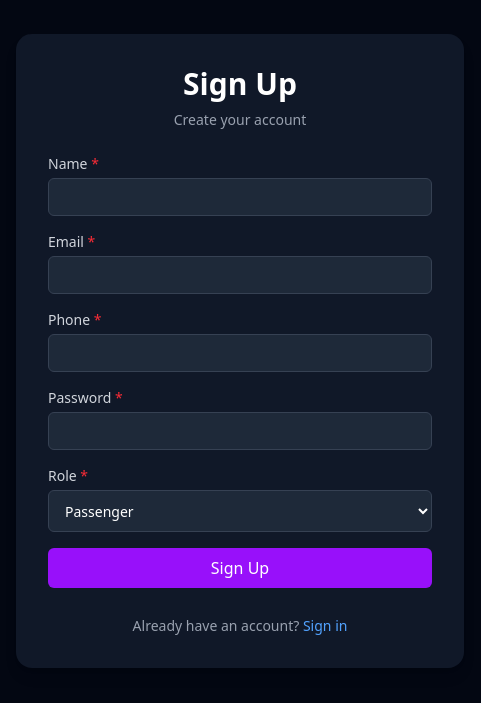
Test case: SignUp Component Tests › displays error message after failed registration
Type "Test User" into the field with test id "signup-name" at (240, 197), box [48,178,432,216]
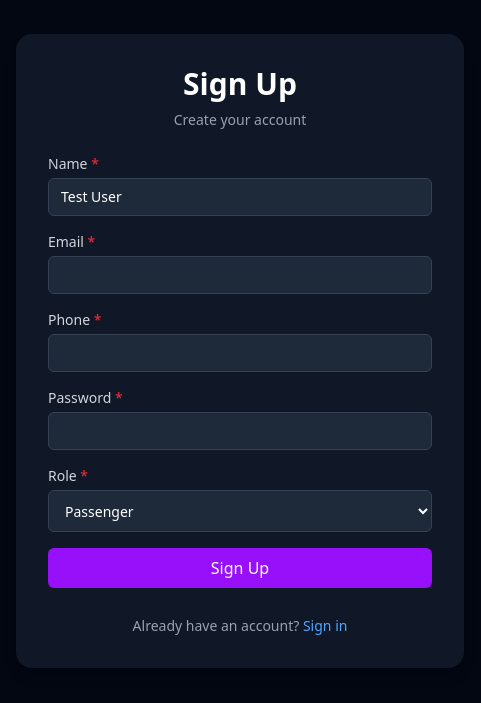
Type "test@example.com" into the field with test id "signup-email" at (240, 275), box [48,256,432,294]
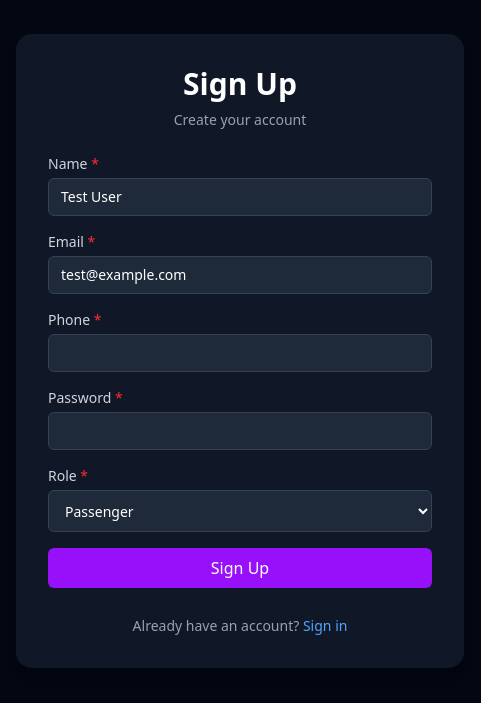
Type "1234567890" into the field with test id "signup-phone" at (240, 353), box [48,334,432,372]
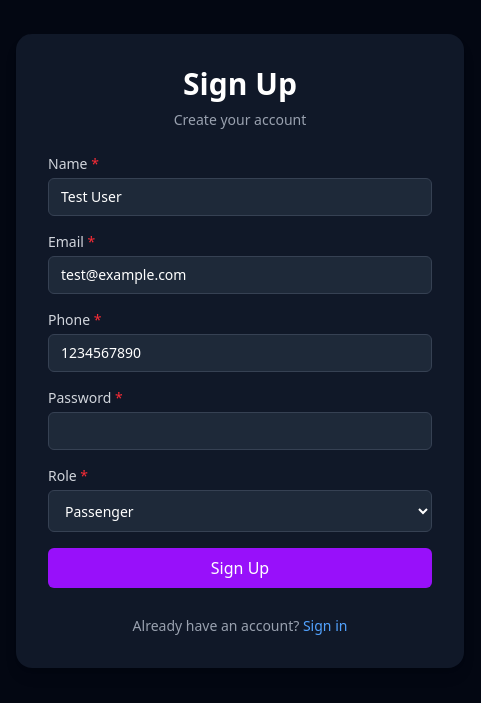
Type "securePass" into the password field with test id "signup-password" at (240, 431), box [48,412,432,450]
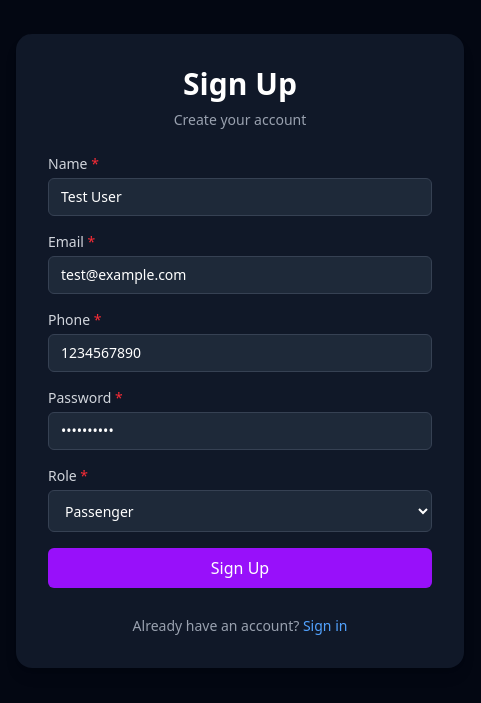
Click the button "Sign Up" at (240, 568), box [48,548,432,588]
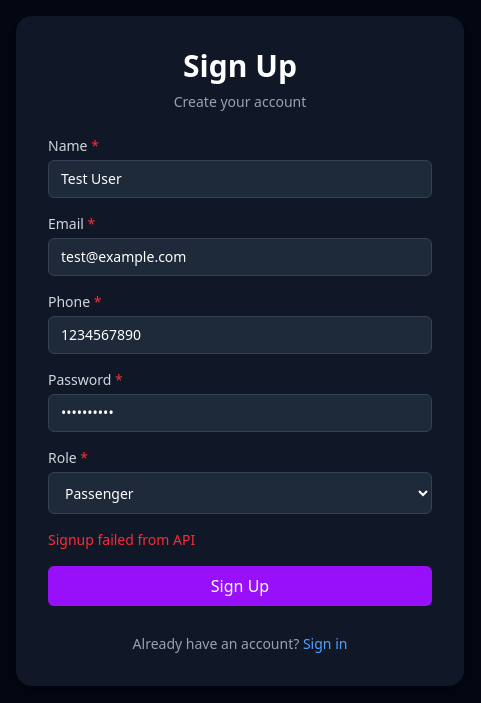
Result: the text "Signup failed from API" is shown at [48,530,195,549]
